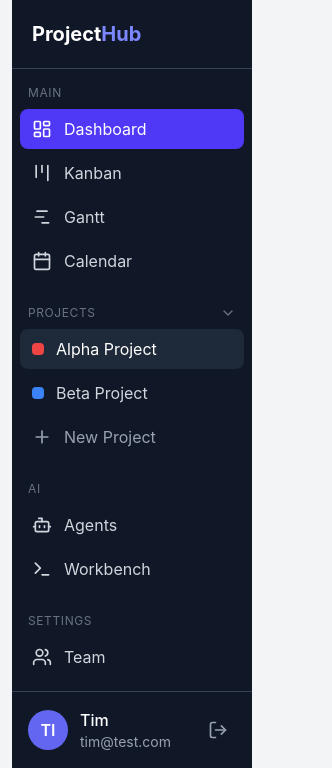
Test case: Sidebar › toggles project list when Projects header clicked
Expected: the text "Alpha Project" is shown, [56,337,157,361]
Click the button "Projects" at (132, 313), box [12,305,252,321]
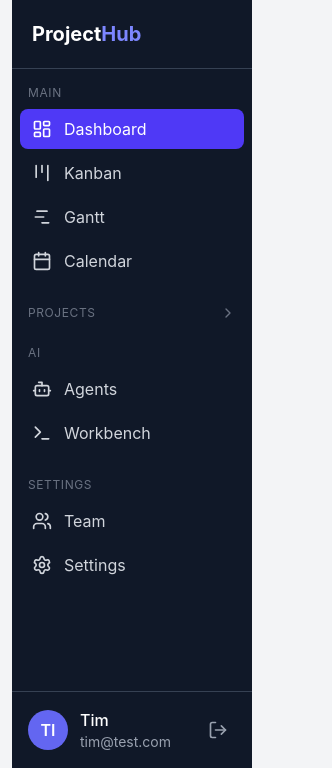
Now the button "Alpha Project" is gone
Click the button "Projects" at (132, 313), box [12,305,252,321]
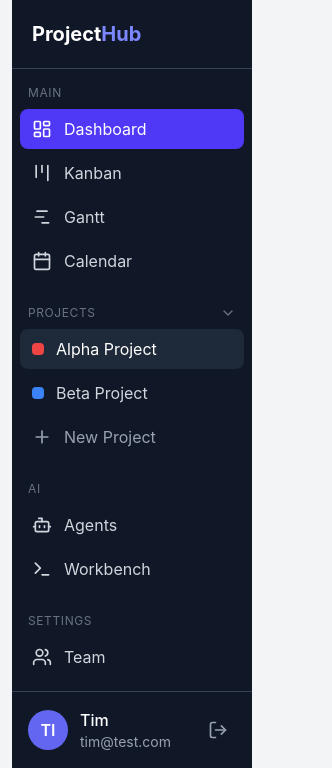
Now the text "Alpha Project" is shown, box [56,337,157,361]
